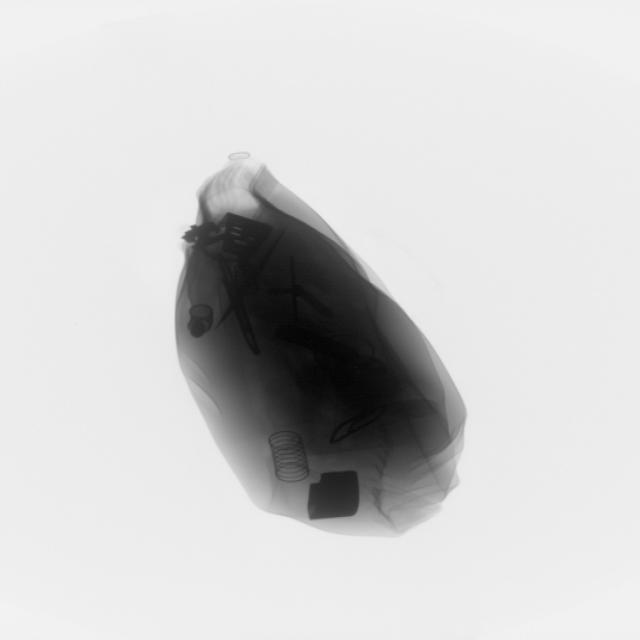GUN: (211, 236, 280, 378)
